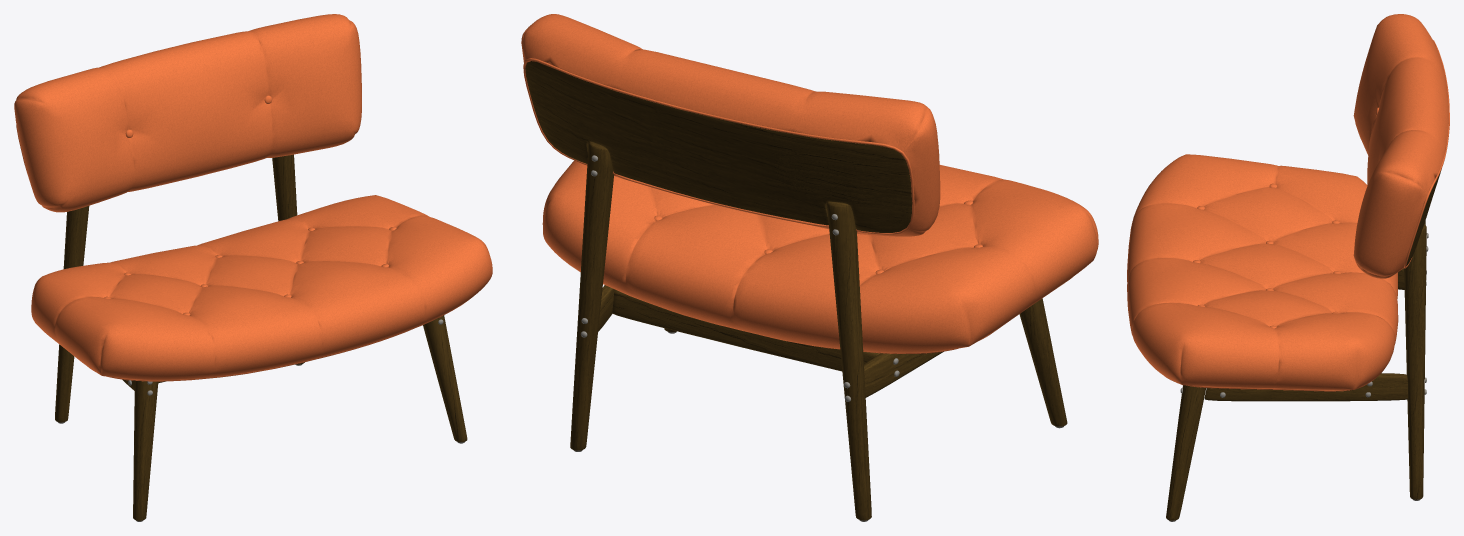
Rendered from chair.glb.
3 views of the same model, side by side, from view 1: azimuth 30°, elevation 25°; view 2: azimuth 150°, elevation 25°; view 3: azimuth 270°, elevation 25° (orthographic). The views are drawn at different scales.
Visible parts, largest first — view 1: SheenChair_fabric, SheenChair_wood; view 2: SheenChair_fabric, SheenChair_wood; view 3: SheenChair_fabric, SheenChair_wood.
Boxes of the visible parts, bbox=[...] form: SheenChair_fabric: bbox=[14, 14, 492, 381]; SheenChair_wood: bbox=[55, 154, 467, 520]; SheenChair_fabric: bbox=[521, 14, 1098, 353]; SheenChair_wood: bbox=[525, 61, 1067, 520]; SheenChair_fabric: bbox=[1127, 14, 1449, 391]; SheenChair_wood: bbox=[1166, 169, 1441, 520].
Bounding box in the file's own units: 0.8266 × 0.6861 × 0.5699.
4 materials, 3 textured.
